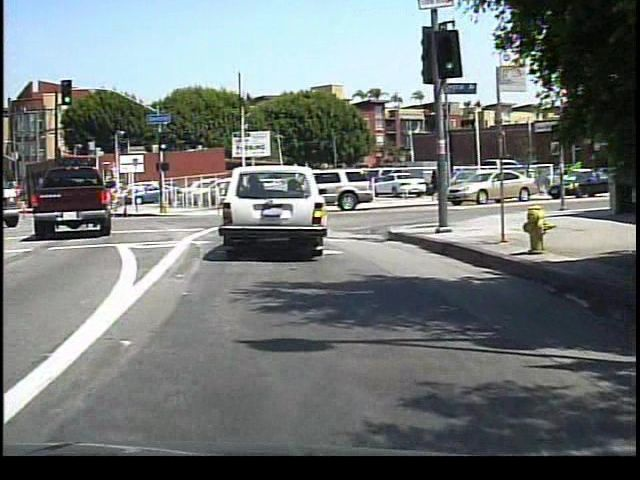person: (424, 162, 444, 204)
